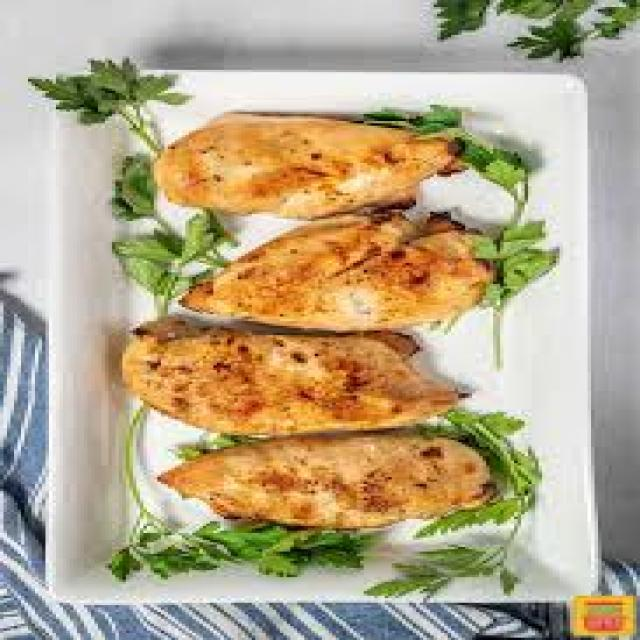Frango: (133, 109, 497, 554)
